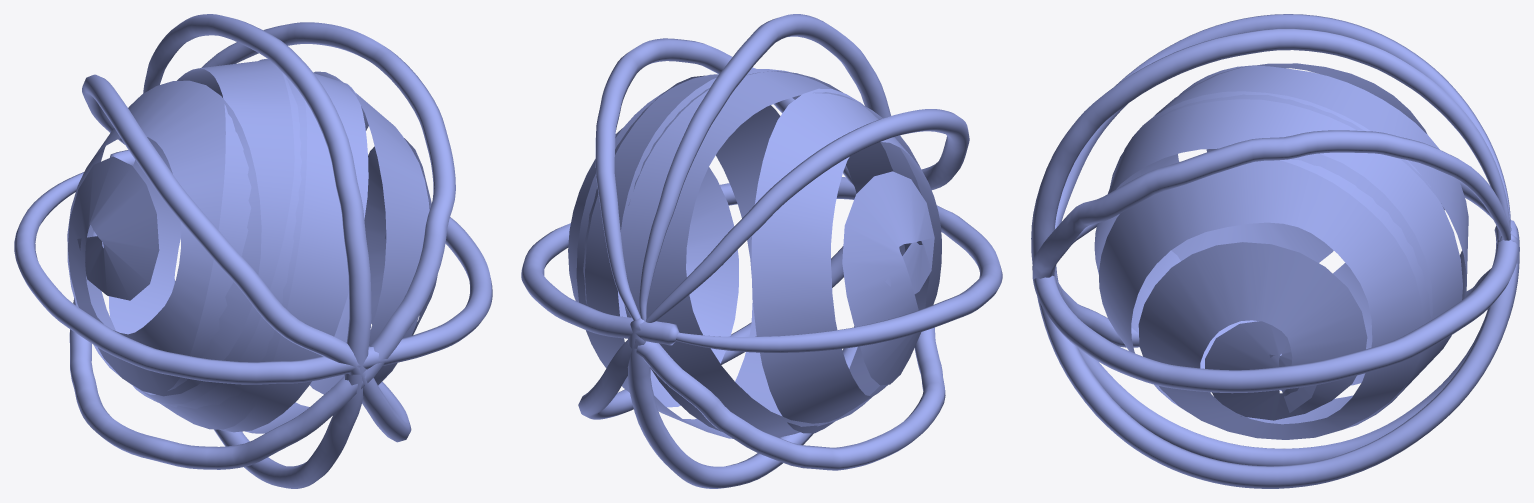
The picture shows the model from 3 angles, left to right: view 1: azimuth 30°, elevation 25°; view 2: azimuth 150°, elevation 25°; view 3: azimuth 270°, elevation 25°; orthographic projection.
Parts seen in each view (by area): view 1: brush_Rainbow_g0_b0, brush_ChromaticWave_g0_b0; view 2: brush_Rainbow_g0_b0, brush_ChromaticWave_g0_b0; view 3: brush_Rainbow_g0_b0, brush_ChromaticWave_g0_b0.
Part boxes in pixels (box(x1,y1,x2,y2)): brush_Rainbow_g0_b0: box(67, 58, 437, 433); brush_ChromaticWave_g0_b0: box(14, 14, 492, 488); brush_Rainbow_g0_b0: box(568, 69, 941, 438); brush_ChromaticWave_g0_b0: box(521, 14, 1002, 488); brush_Rainbow_g0_b0: box(1094, 63, 1468, 439); brush_ChromaticWave_g0_b0: box(1031, 14, 1519, 488).
Size of the model in its own units: 2.06 by 2.08 by 2.08.
